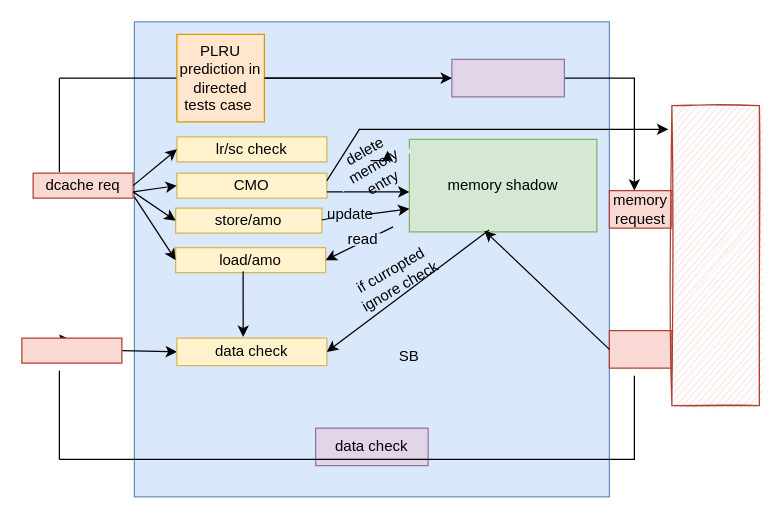
This 781x519 diagram has some shape labels left out. Each missing label, with the centre of its shape:
"dcache rsp" goes at (x=71, y=350).
"if error: mark the line corupted until a clean store or load miss" goes at (x=546, y=301).
"memory response" goes at (x=640, y=348).
"memory response model" goes at (x=715, y=255).
"mete data check" goes at (x=507, y=77).
